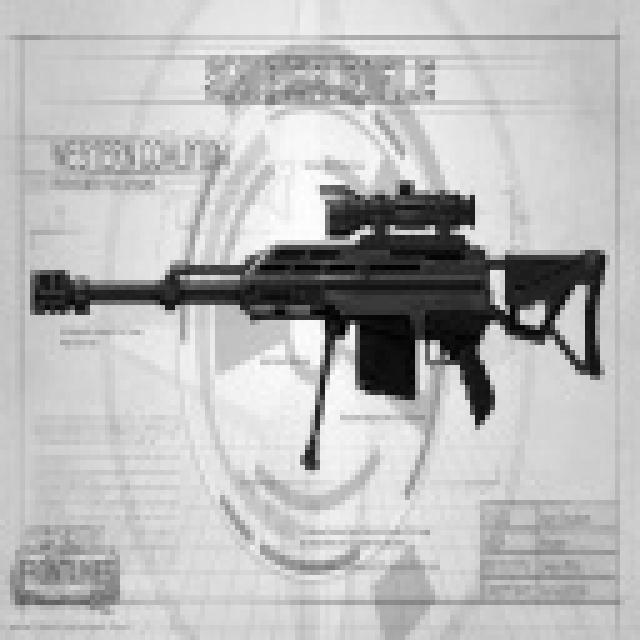Rifle: (0, 162, 616, 500)
